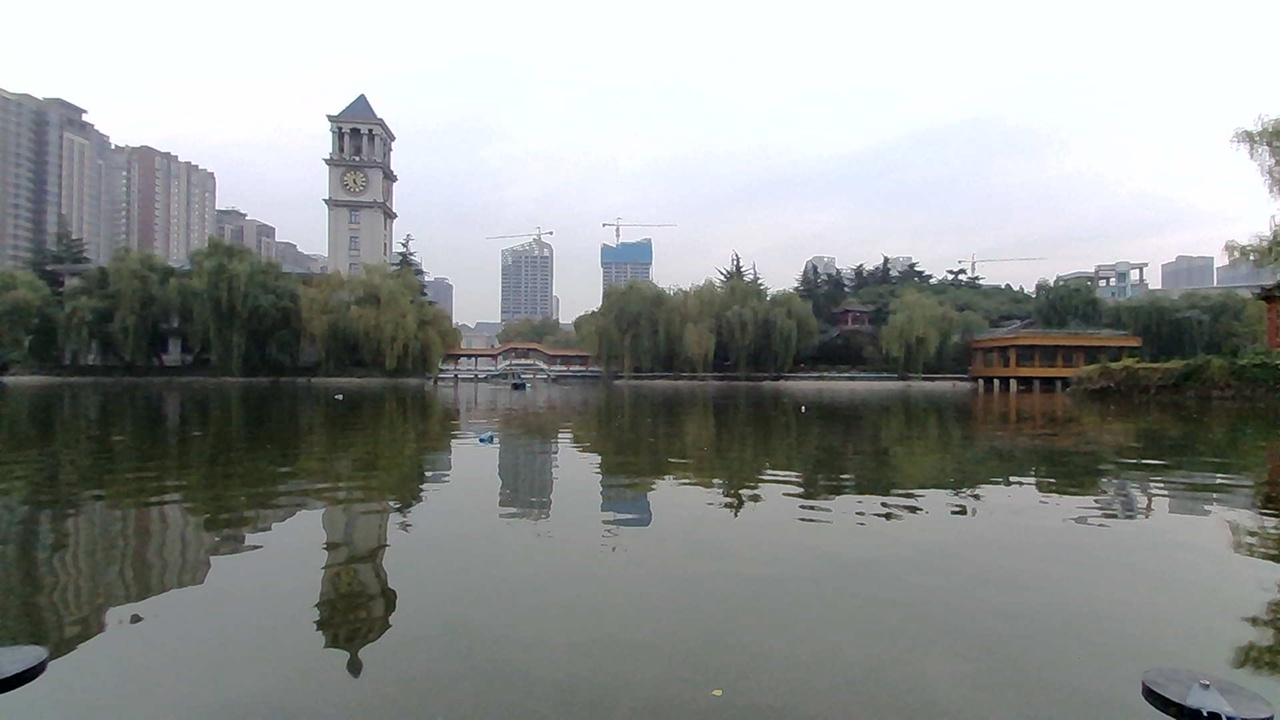bottle: (466, 422, 505, 446), (792, 396, 816, 420), (327, 385, 350, 403)
